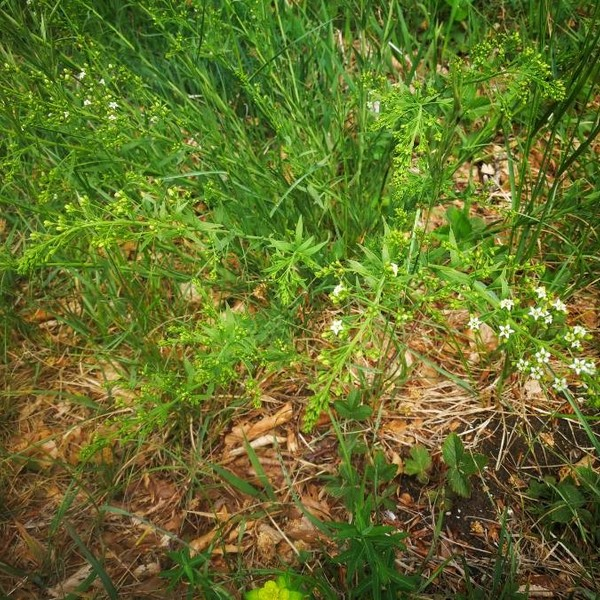obstacle: (41, 20, 509, 421)
